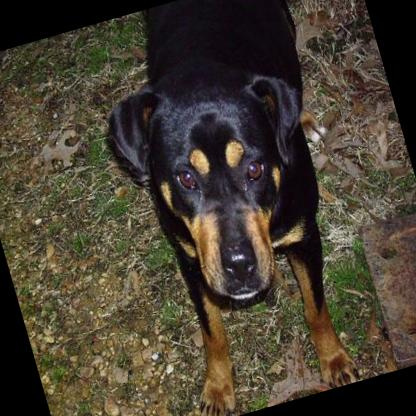Rottweiler: (78, 0, 393, 416)
